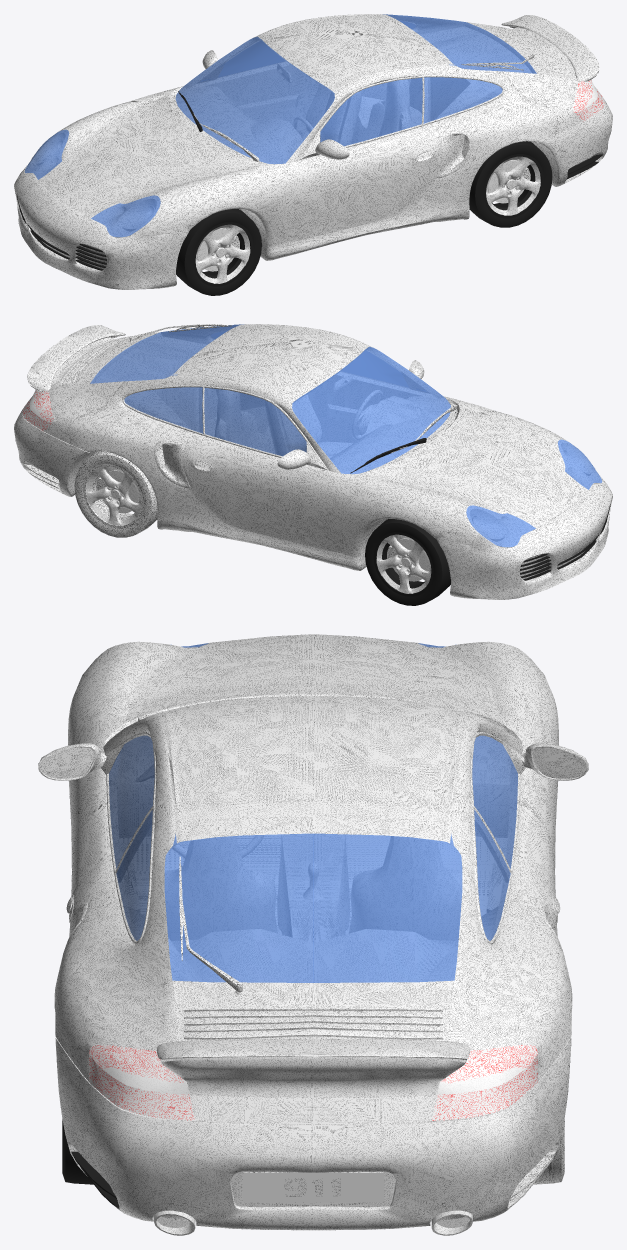
File: porsche966t.dae
3 renders of one model, top to bottom at view 1: azimuth 30°, elevation 25°; view 2: azimuth 150°, elevation 25°; view 3: azimuth 270°, elevation 25°, orthographic. The views are drawn at different scales.
Parts seen in each view (by area): view 1: instance_1; view 2: instance_1; view 3: instance_1.
Boxes of the visible parts, x1,y1,x2,y2 form: instance_1: (14,14,612,295); instance_1: (14,324,612,605); instance_1: (38,634,588,1235).
Bounding box in the file's own units: 16.09 × 7.06 × 4.73.
